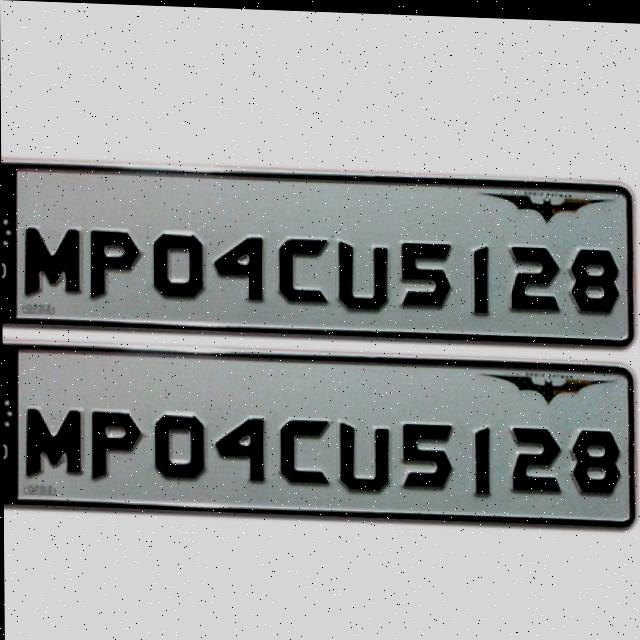plate: (2, 335, 636, 527), (1, 158, 632, 341)
